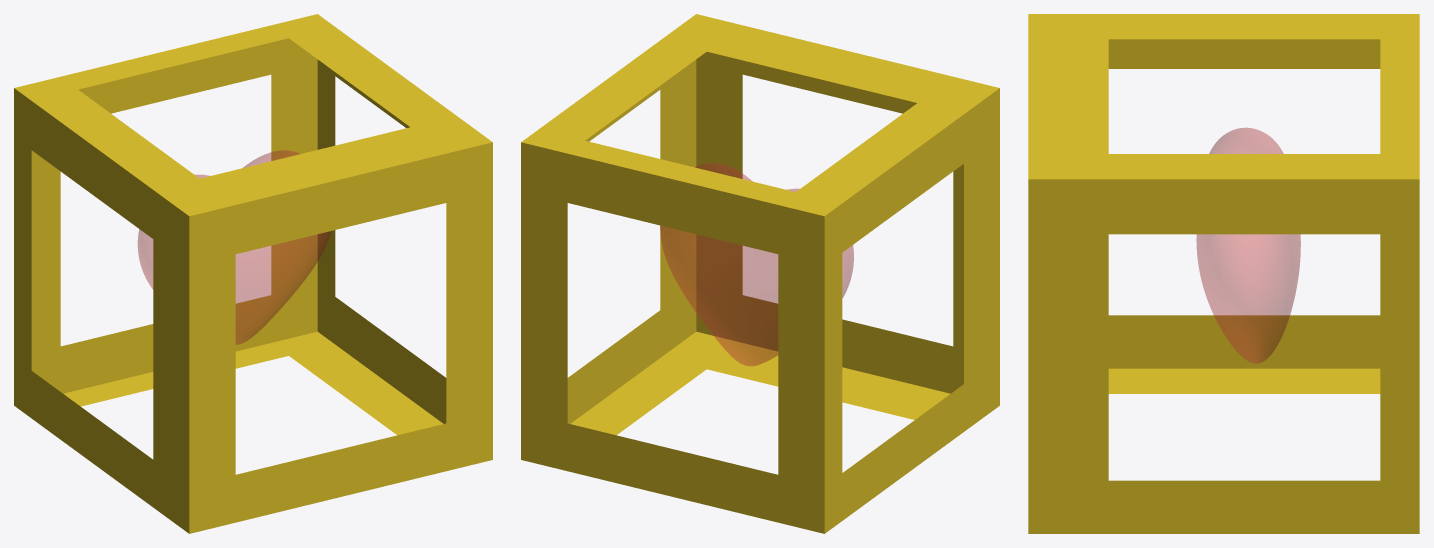
The model's file is heart.gltf.
The picture shows the model from 3 angles, left to right: view 1: azimuth 30°, elevation 25°; view 2: azimuth 150°, elevation 25°; view 3: azimuth 270°, elevation 25°; orthographic projection. The views are drawn at different scales.
Visible parts, largest first — view 1: Cube, 12190_Heart_v1_L3; view 2: Cube, 12190_Heart_v1_L3; view 3: Cube, 12190_Heart_v1_L3.
Boxes of the visible parts, <box> form: Cube: <box>14,14,492,533</box>; 12190_Heart_v1_L3: <box>138,150,331,344</box>; Cube: <box>521,14,999,533</box>; 12190_Heart_v1_L3: <box>660,163,853,365</box>; Cube: <box>1028,14,1419,533</box>; 12190_Heart_v1_L3: <box>1196,128,1300,363</box>.
Size of the model in its own units: 2 by 2 by 2.
